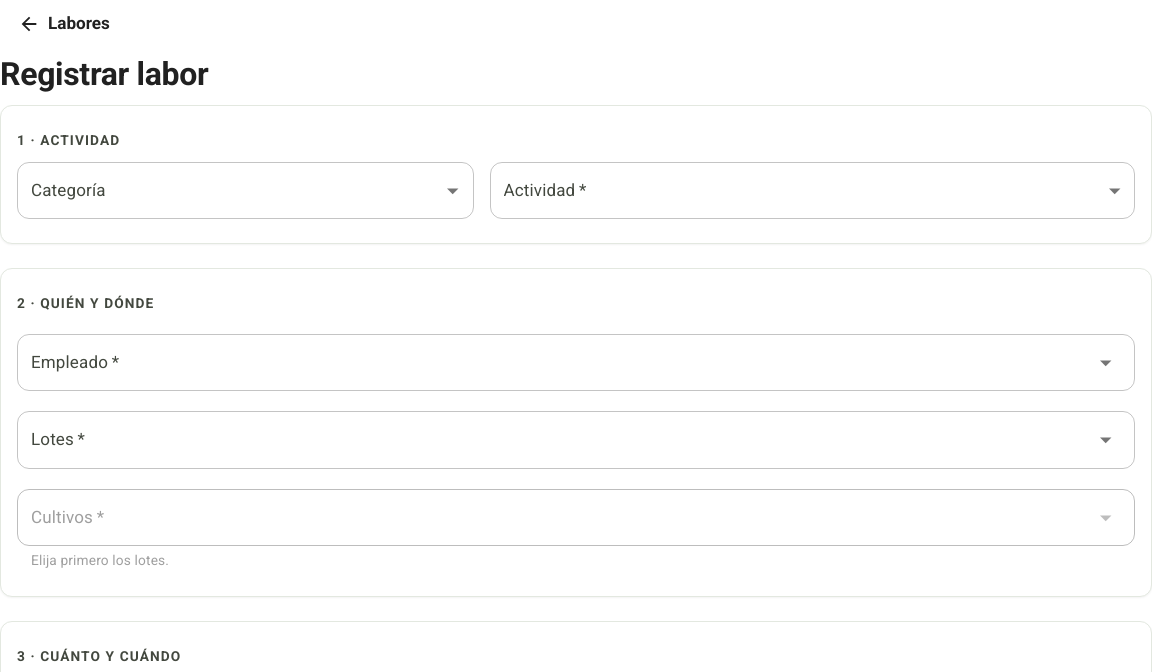
Test: the price field › is closed to the administrator, and says only the owner changes it
Click the 2nd dropdown named "Actividad" at [812, 191], box [490,162,1135,219]
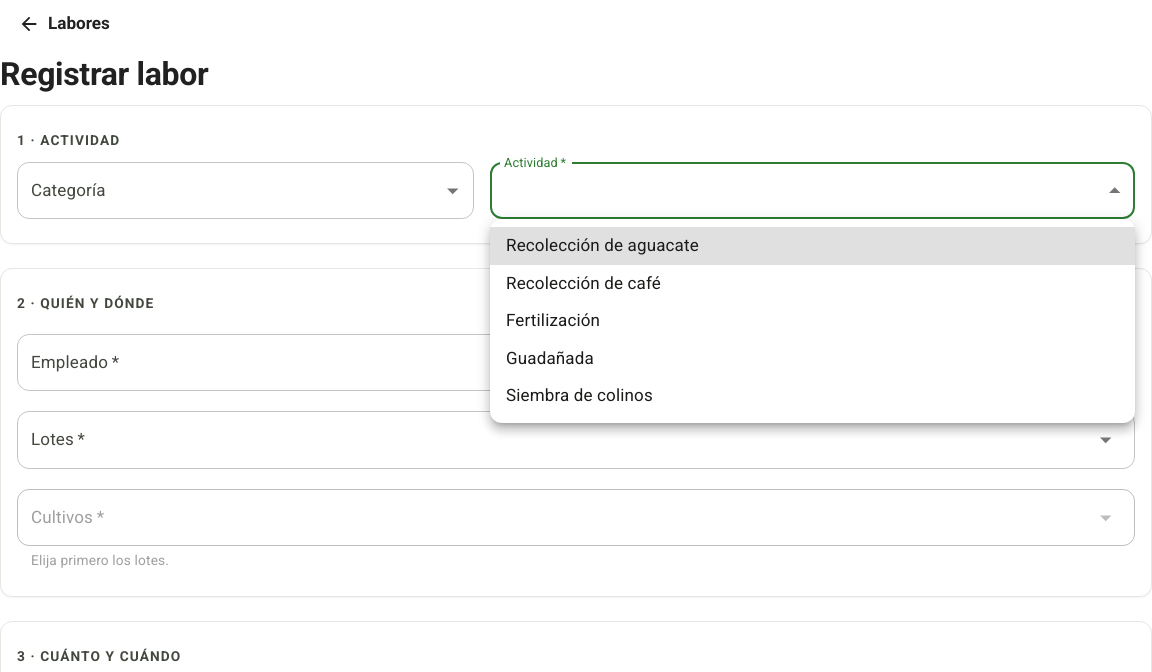
Click the option "Siembra de colinos" at [579, 395], box [506,385,653,405]
(page scrolled)
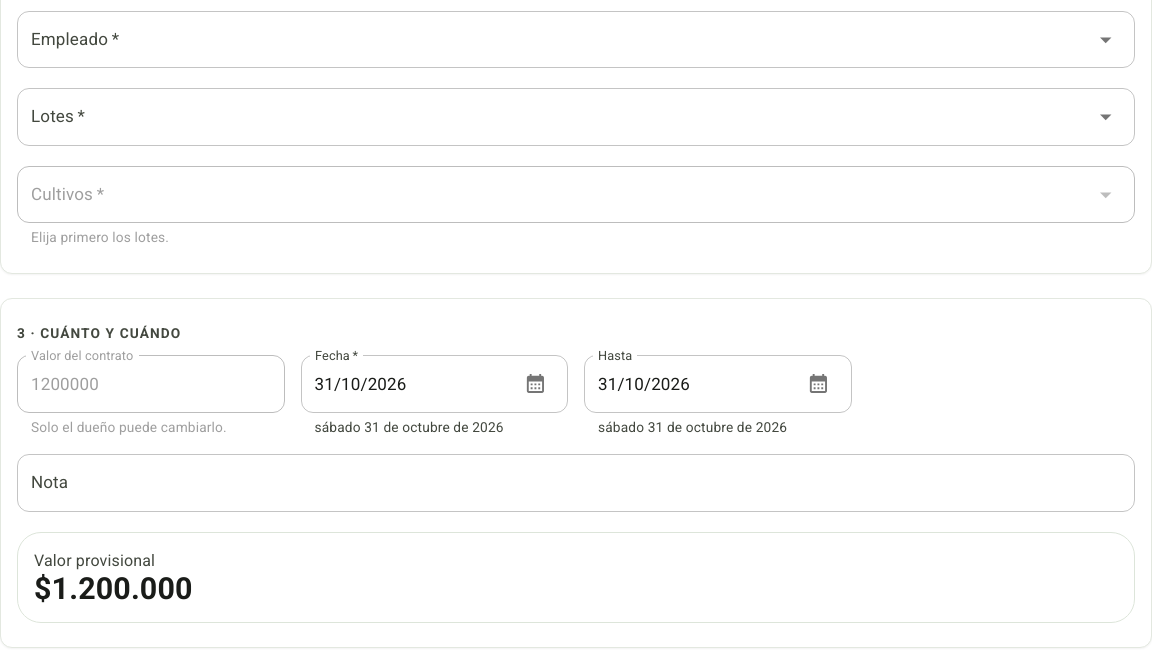
Check: the field labelled "Valor del contrato" is disabled, box [17,355,284,413]
Check: the text "Solo el dueño puede cambiarlo." is shown, box [31,419,227,435]
